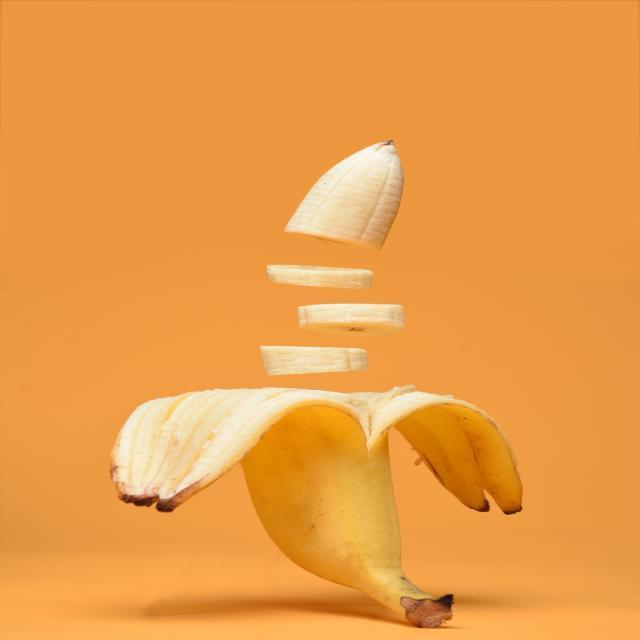banana-peel: (109, 137, 525, 627), (109, 383, 523, 628)
